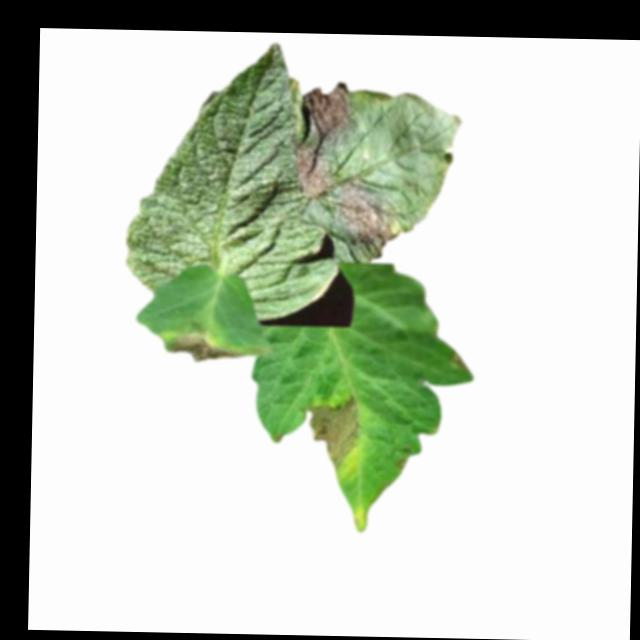Late_blight: (334, 176, 405, 261), (307, 389, 362, 469), (303, 83, 355, 143), (170, 331, 246, 365), (295, 144, 336, 199)
